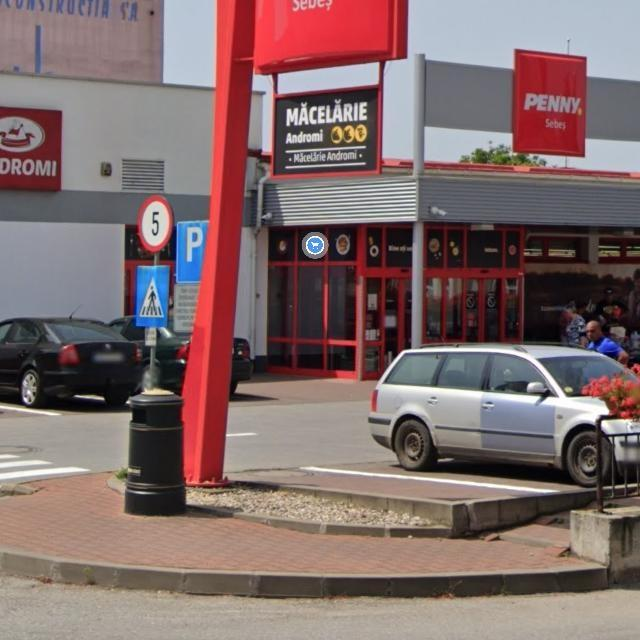info_crosswalk: (134, 264, 169, 326)
